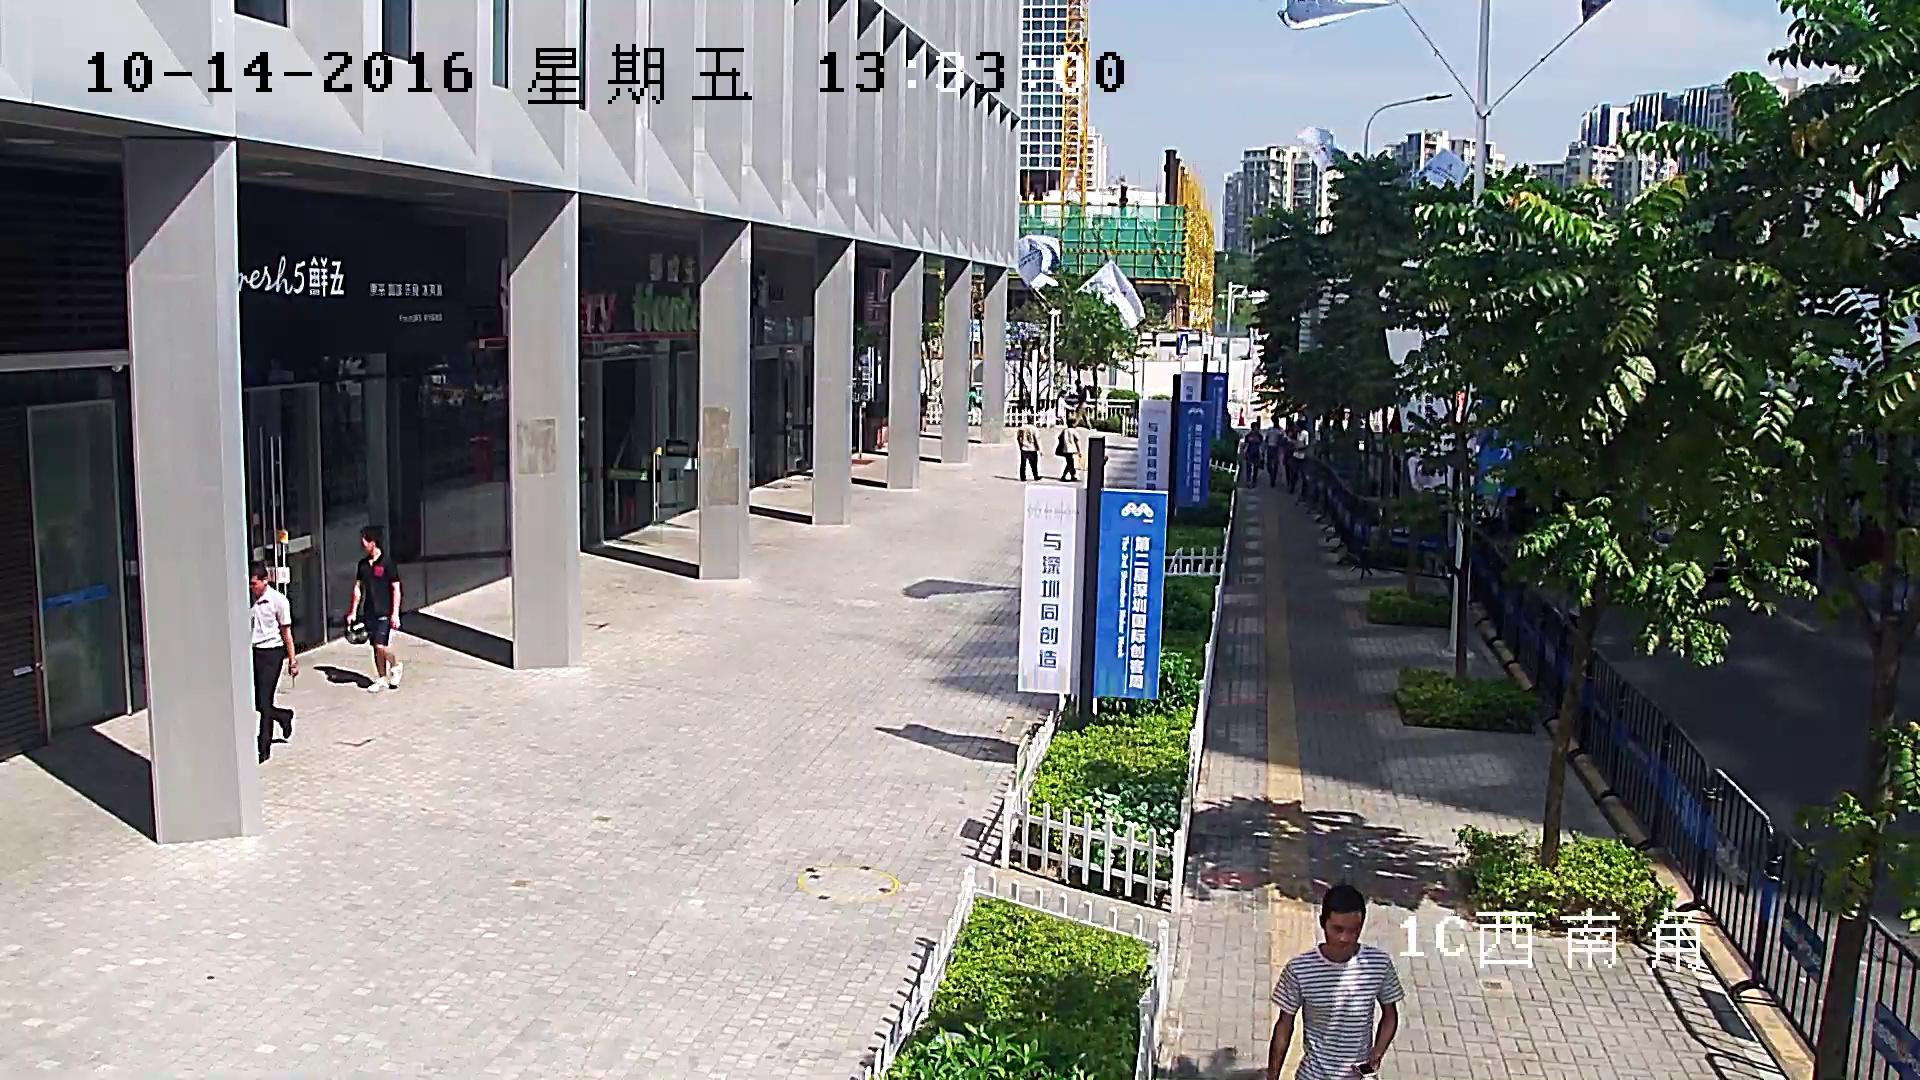person: (1270, 882, 1403, 1080), (248, 562, 299, 761), (346, 525, 403, 694), (1016, 417, 1043, 482), (1241, 421, 1264, 489), (1262, 416, 1283, 488), (1290, 420, 1310, 495), (1056, 419, 1079, 483), (1073, 379, 1093, 431), (1283, 420, 1295, 481), (1055, 389, 1073, 428)
